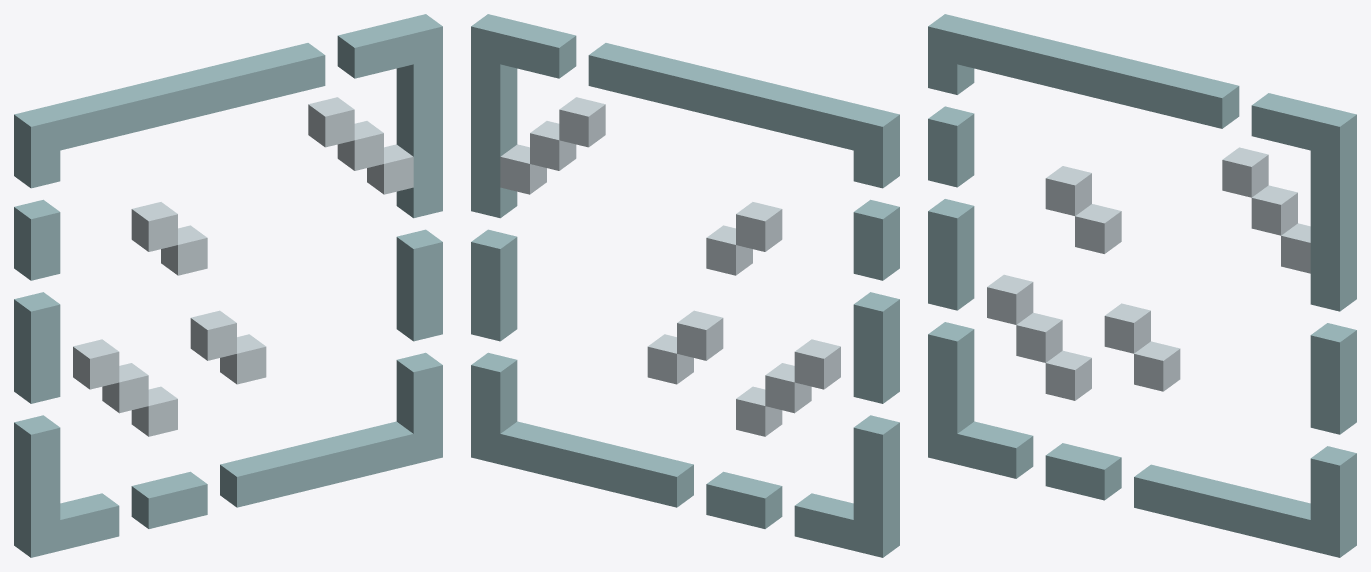
The model's file is GlassWindow.fbx.
3 views of the same model, side by side, from view 1: azimuth 30°, elevation 25°; view 2: azimuth 150°, elevation 25°; view 3: azimuth 330°, elevation 25° (orthographic).
Parts seen in each view (by area): view 1: generated; view 2: generated; view 3: generated.
Boxes of the visible parts, box(x1,y1,x2,y2) form: generated: box(14, 14, 442, 557); generated: box(471, 14, 899, 557); generated: box(928, 14, 1356, 557).
Size of the model in its own units: 14 by 14 by 1.
